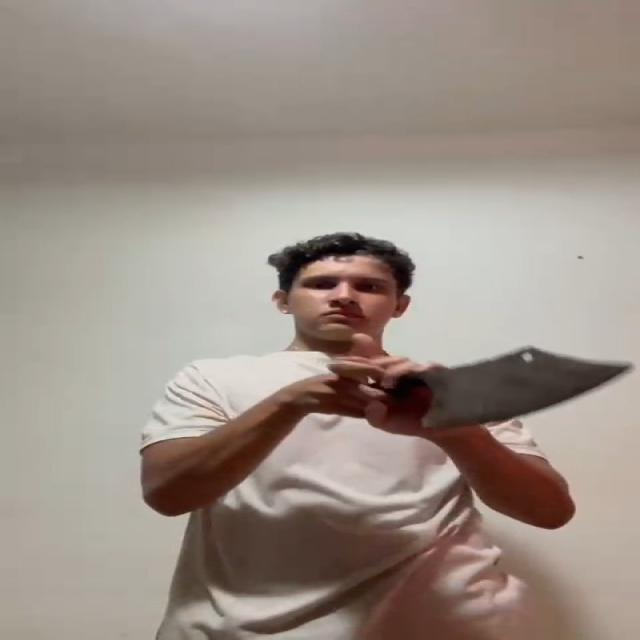knife: (417, 345, 635, 430)
